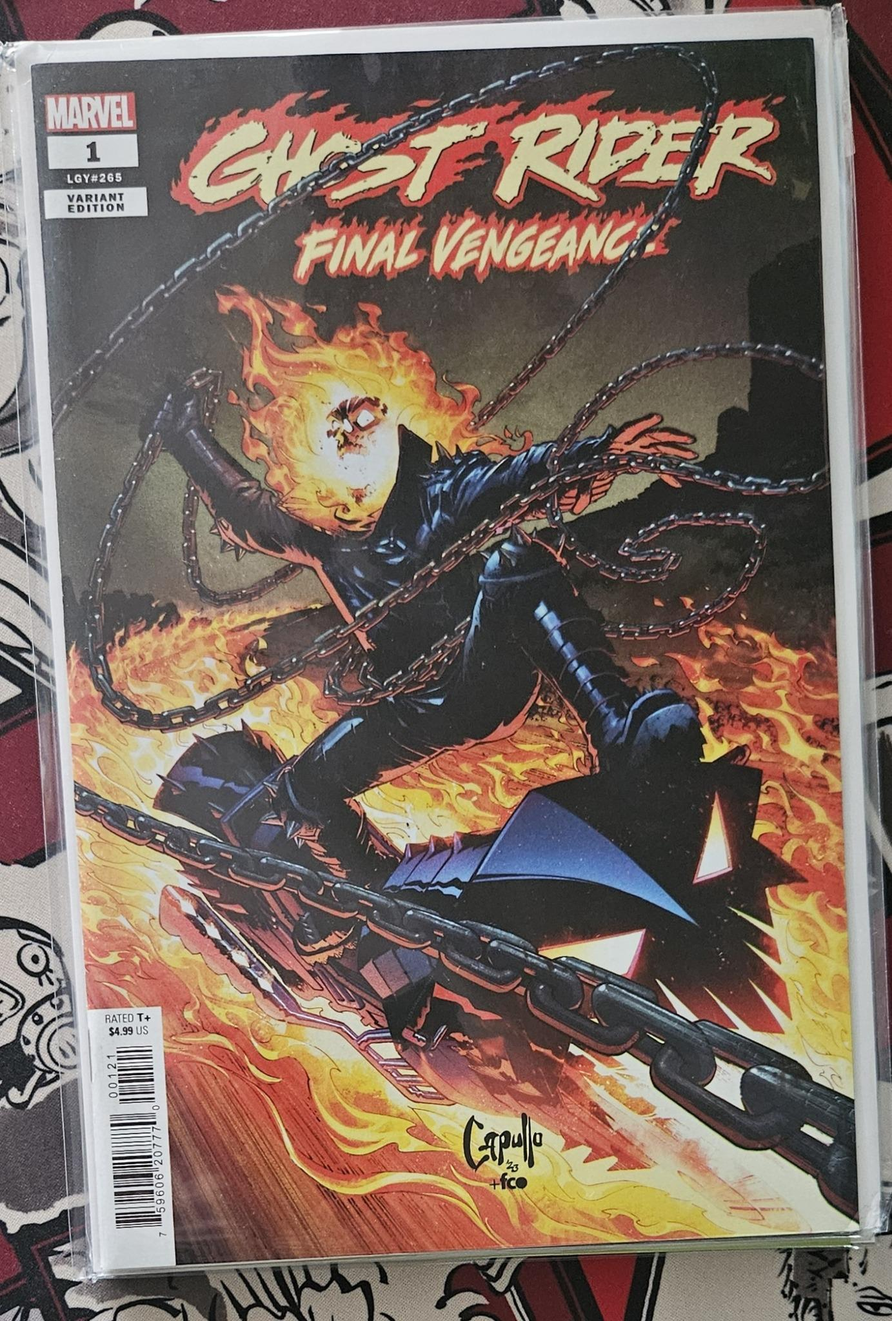comic: (8, 6, 892, 1276)
